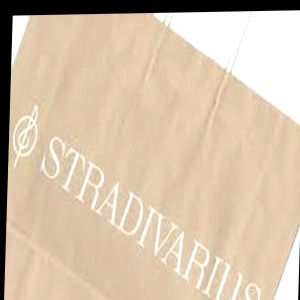stradivarius: (274, 251, 291, 300)
